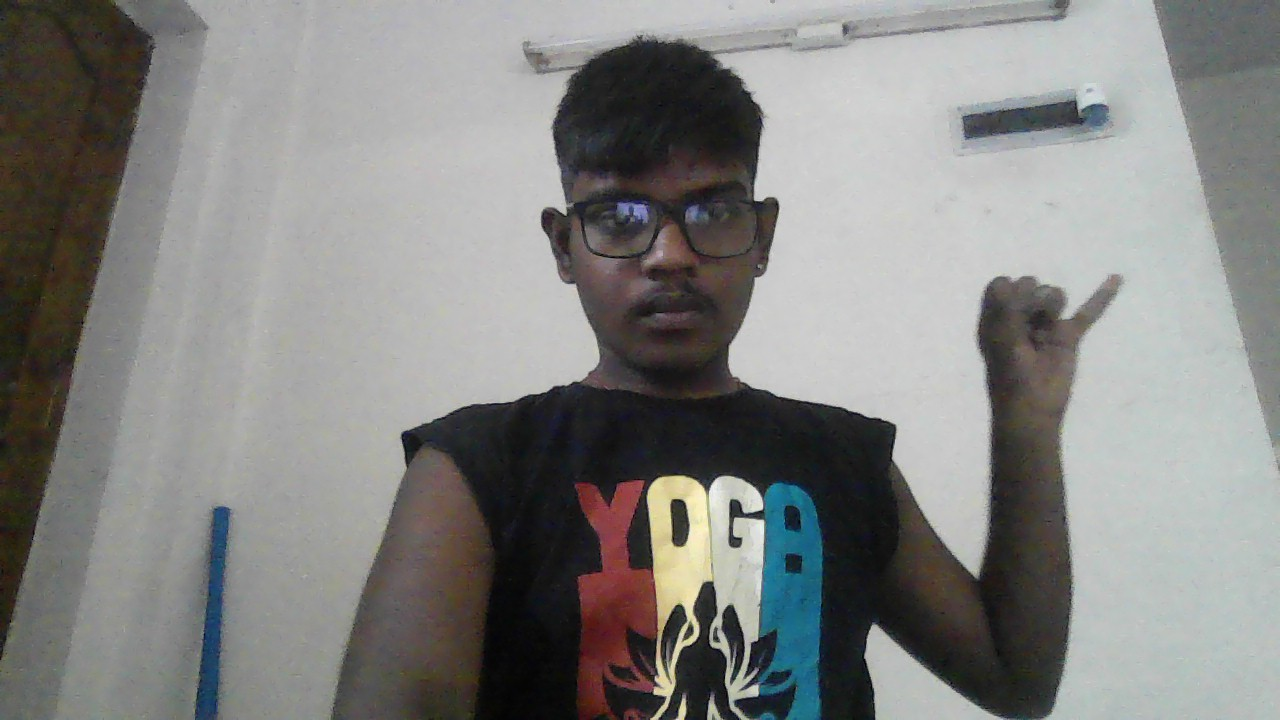J: (977, 272, 1123, 441)
